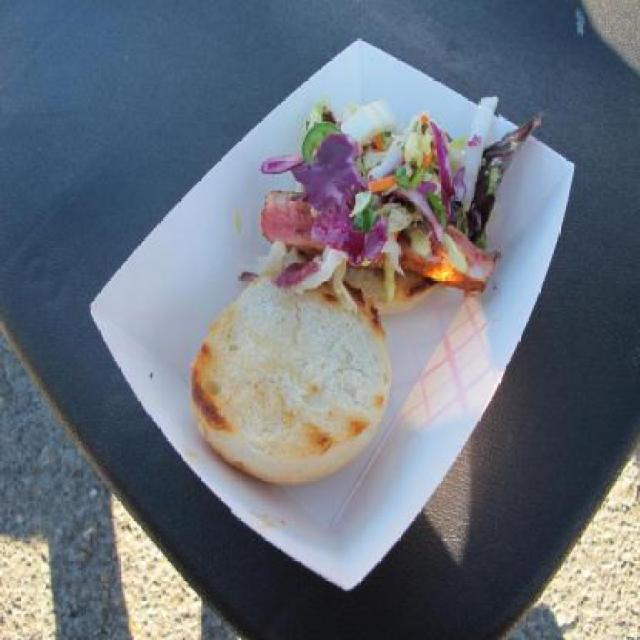Salad: (235, 88, 548, 320)
